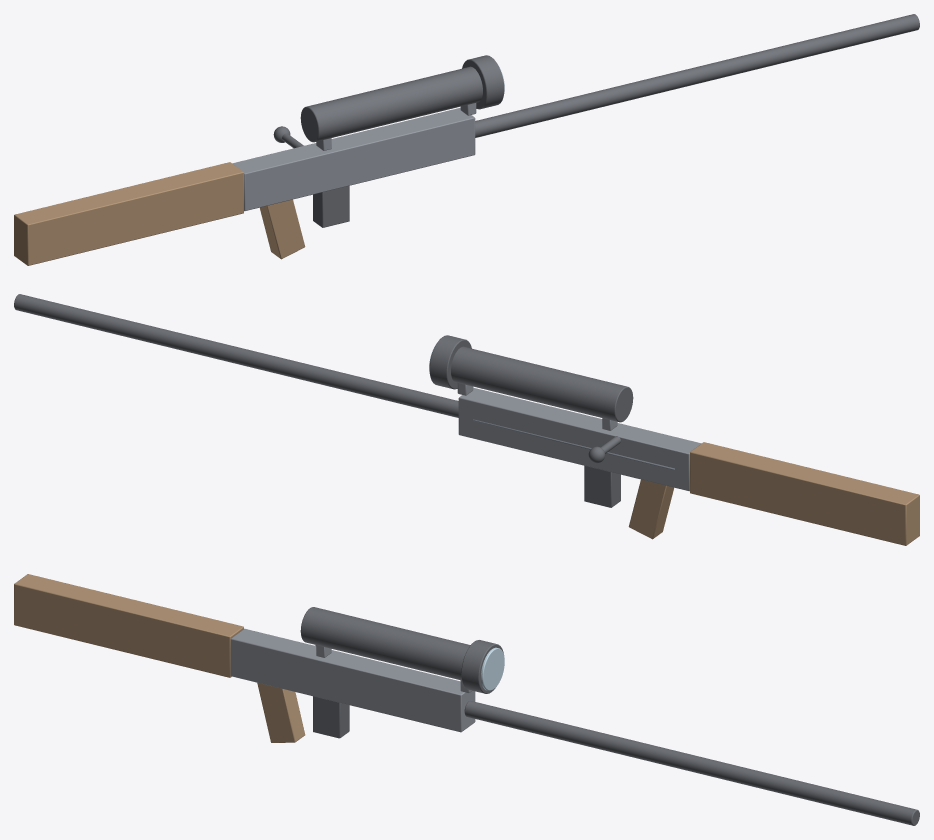
The model's file is SM_WPN_BOLT_SNIPER.fbx.
3 renders of one model, top to bottom at view 1: azimuth 30°, elevation 25°; view 2: azimuth 150°, elevation 25°; view 3: azimuth 330°, elevation 25°, orthographic.
Parts seen in each view (by area): view 1: SM_WPN_BOLT_SNIPER; view 2: SM_WPN_BOLT_SNIPER; view 3: SM_WPN_BOLT_SNIPER.
Part boxes in pixels (<box>): SM_WPN_BOLT_SNIPER: <box>14,14,919,265</box>; SM_WPN_BOLT_SNIPER: <box>14,294,919,545</box>; SM_WPN_BOLT_SNIPER: <box>14,574,919,825</box>.
Size of what is drawn, in the model's own units: 1.24 by 0.1936 by 0.1068.
